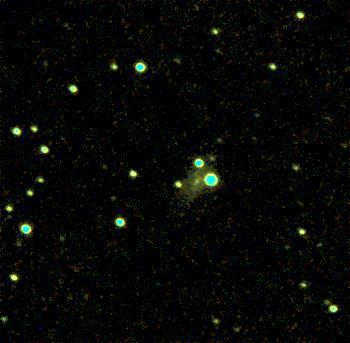star: (219, 312, 249, 342)
